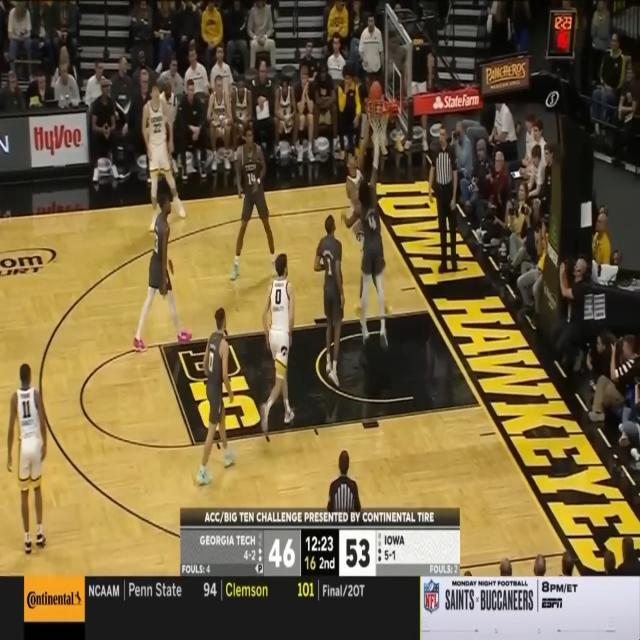Ball: (369, 81, 382, 102)
Clock: (548, 11, 576, 57)
Hoop: (366, 100, 390, 145)
Overlay: (0, 575, 640, 640), (180, 506, 460, 576)
Player: (340, 126, 390, 351), (342, 99, 393, 318), (132, 193, 192, 351), (7, 362, 48, 555), (228, 121, 277, 281), (195, 308, 236, 486), (142, 79, 186, 231), (260, 252, 295, 435), (311, 212, 345, 390)
Ref: (326, 449, 362, 608), (428, 124, 458, 275)
Scoreboard: (180, 529, 460, 575)
